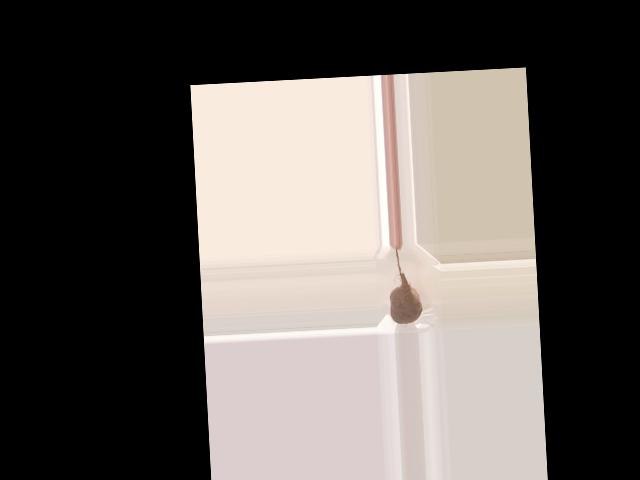beet: (387, 246, 423, 324)
